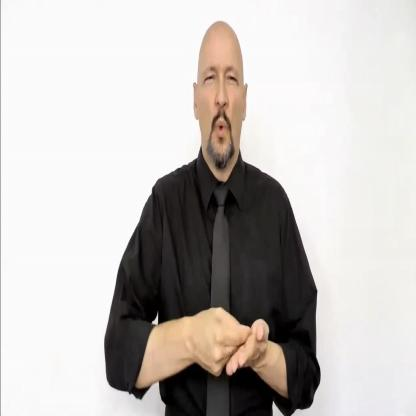Expensive: (185, 280, 275, 386)
